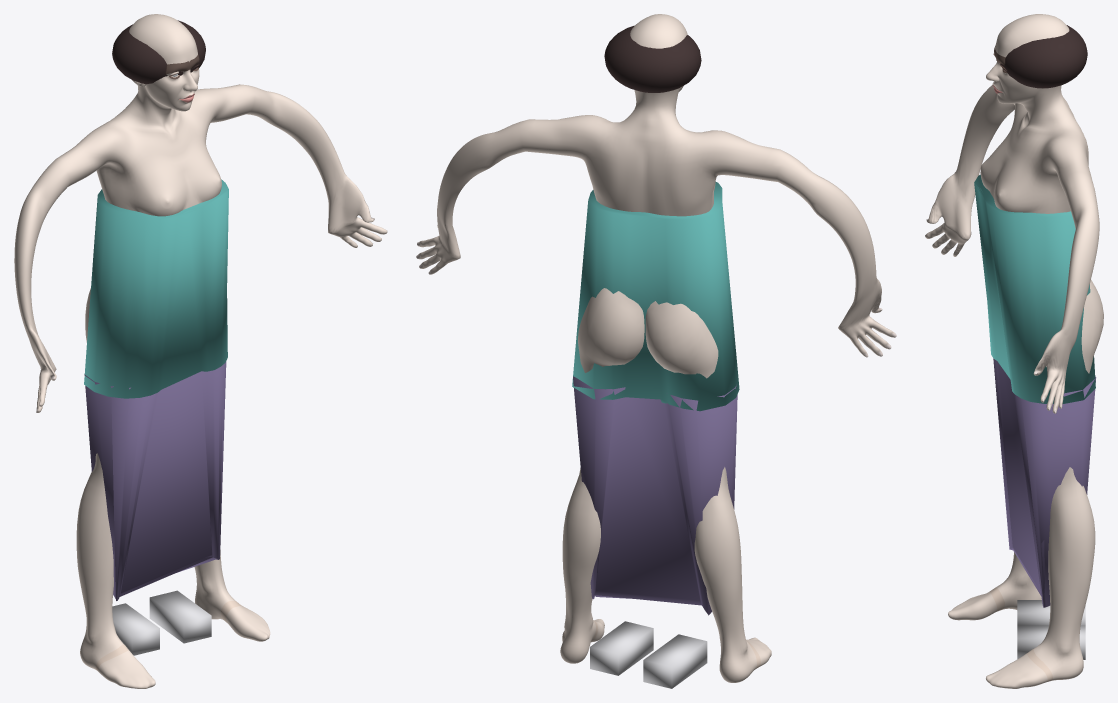
File: hm_ped_suki_v14.glb
3 renders of one model, left to right at view 1: azimuth 30°, elevation 25°; view 2: azimuth 150°, elevation 25°; view 3: azimuth 270°, elevation 25°, orthographic. The views are drawn at different scales.
Visible parts, largest first — view 1: hm_ped_suki; view 2: hm_ped_suki; view 3: hm_ped_suki.
Part boxes in pixels (box(x1,y1,x2,y2)): hm_ped_suki: box(14, 14, 387, 688); hm_ped_suki: box(416, 14, 896, 688); hm_ped_suki: box(925, 14, 1103, 688).
Bounding box in the file's own units: 1.1 × 1.62 × 0.418.
